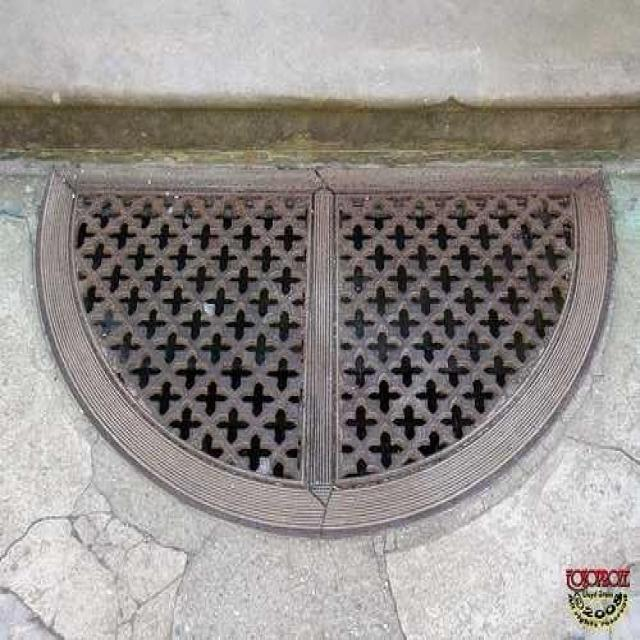manhole: (39, 167, 611, 531)
